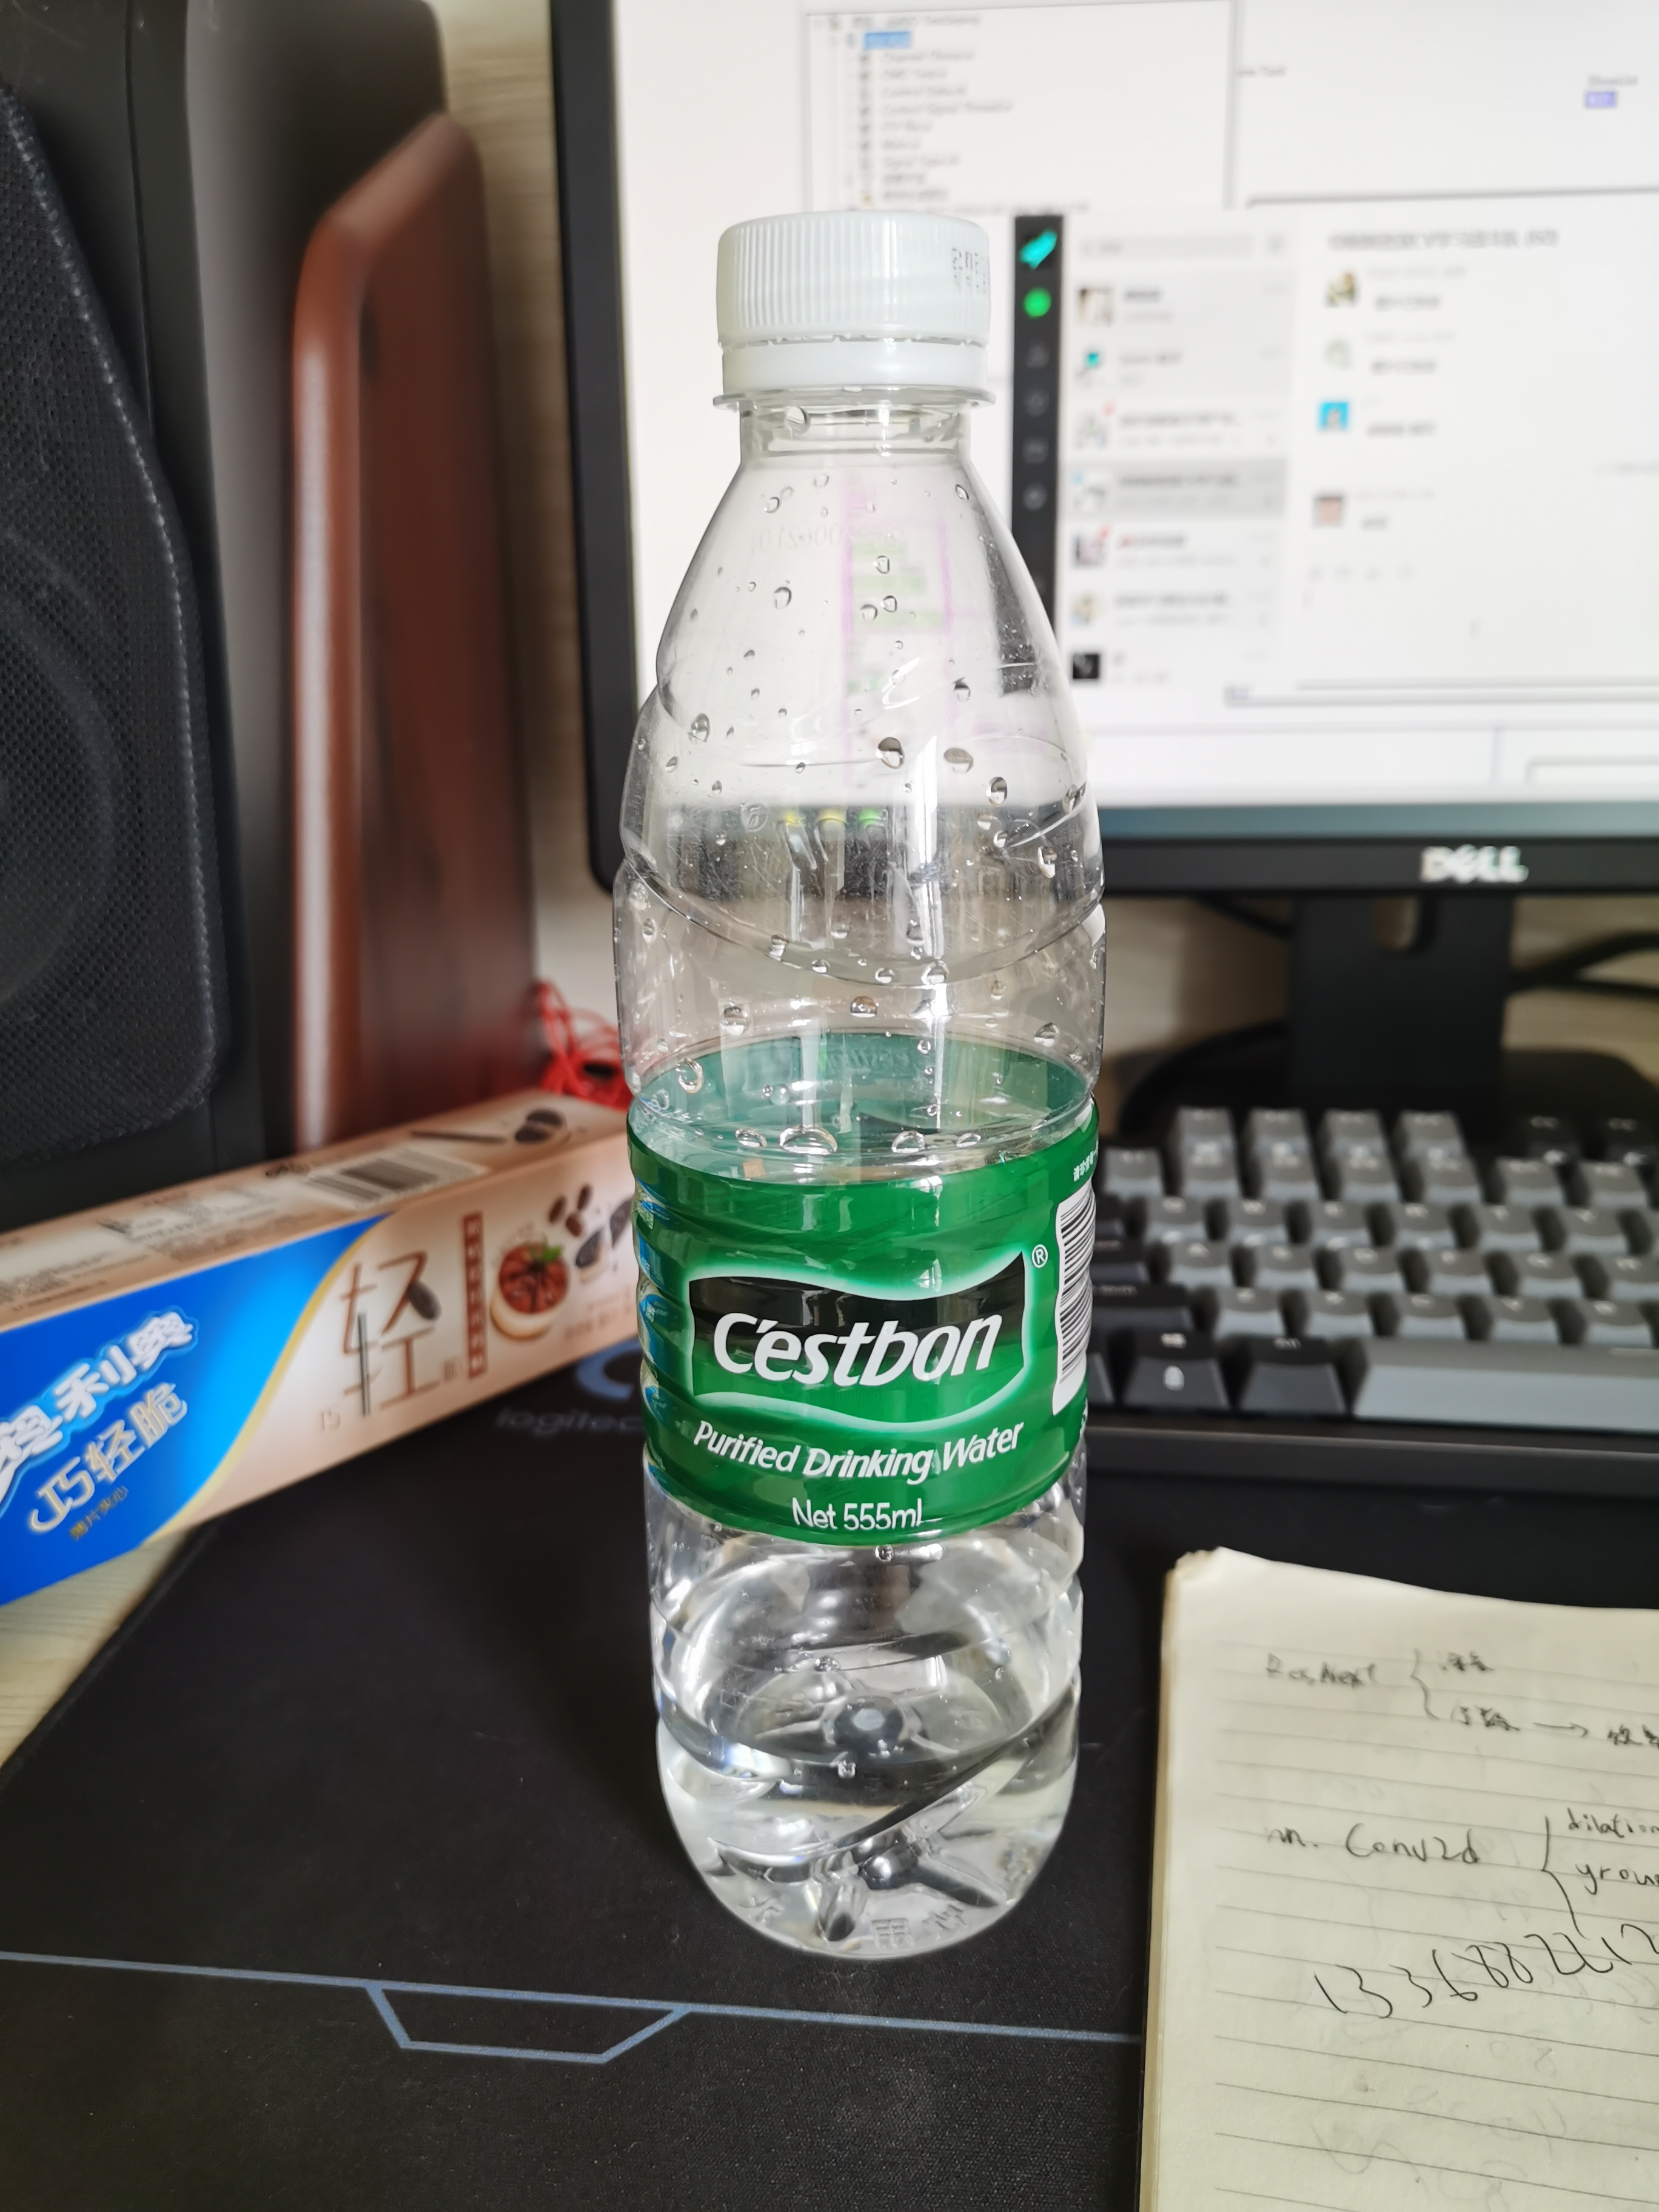怡宝: (582, 172, 1162, 2005)
